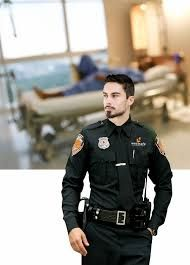uniform: (81, 118, 155, 260)
